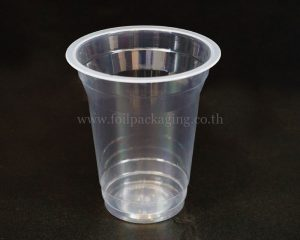plastic_glass: (58, 23, 226, 228)
